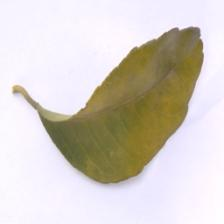greening: (84, 30, 208, 180)
